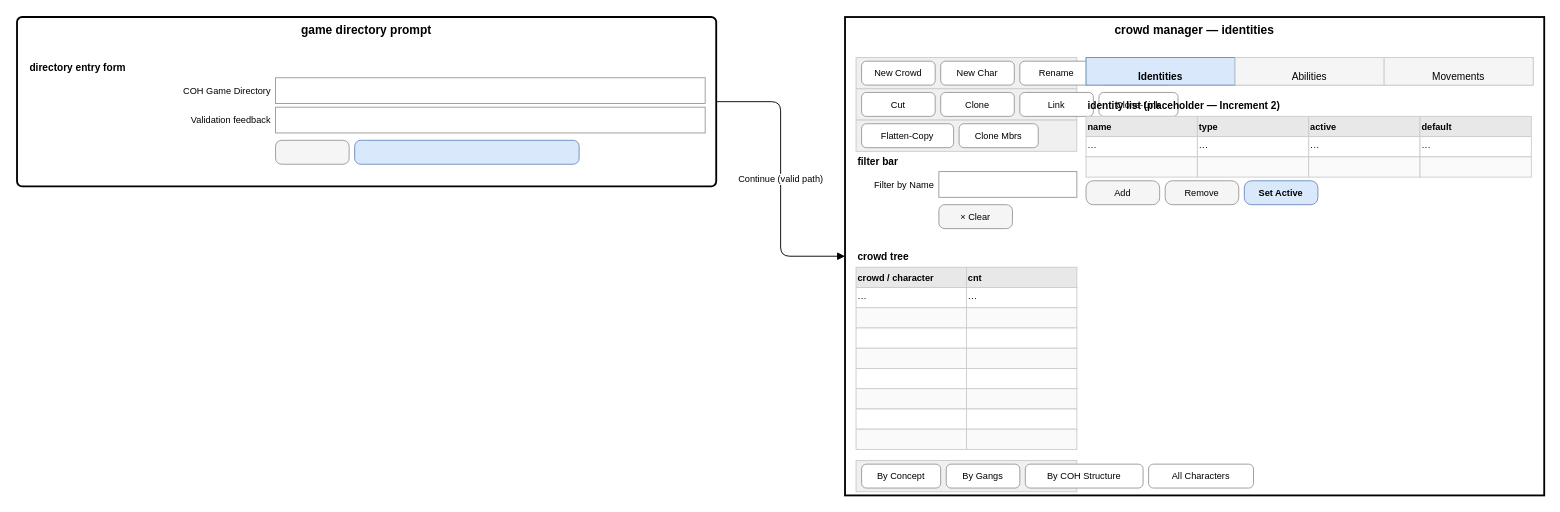
Some shapes in this 1560 by 512 pixel diagram are drawn without their labels. The shapes that lost their labels are listed below. From the top down, each one's centre as x and y in pixels, then its label:
At (312,151): "Browse".
At (466,151): "Continue (disabled until valid)".
